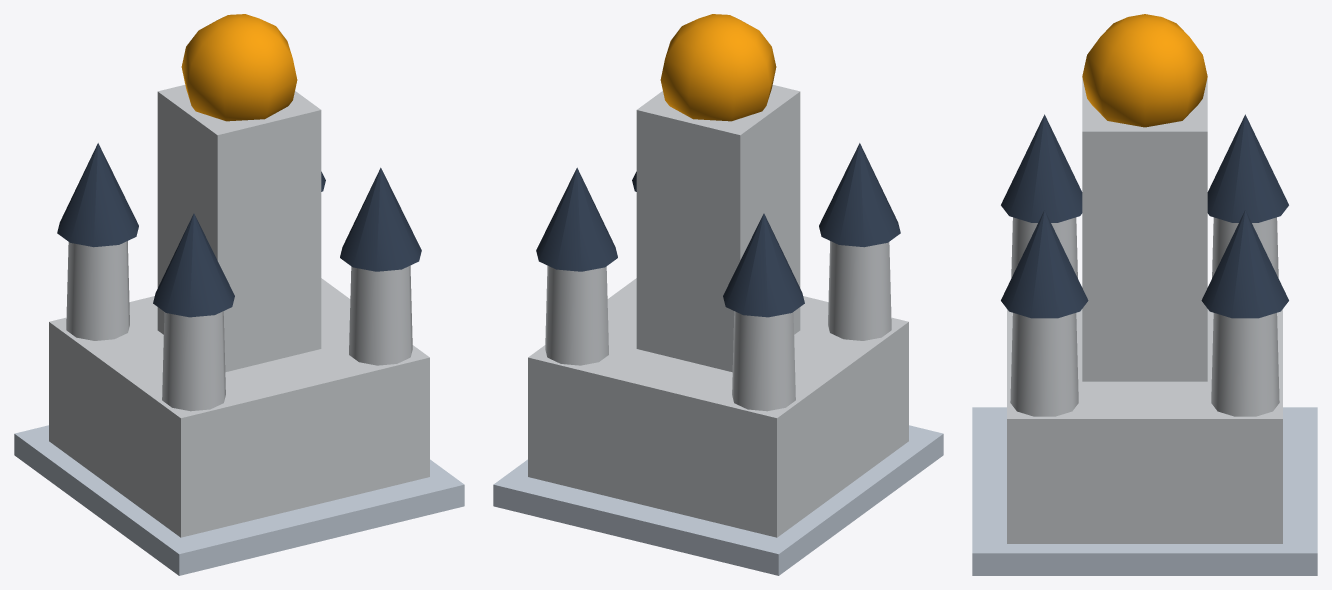
The model's file is bld_c3_cell_8.glb.
The picture shows the model from 3 angles, left to right: view 1: azimuth 30°, elevation 25°; view 2: azimuth 150°, elevation 25°; view 3: azimuth 270°, elevation 25°; orthographic projection. The views are drawn at different scales.
Visible parts, largest first — view 1: Bld_C3_Cell_8_BespokeLandmark; view 2: Bld_C3_Cell_8_BespokeLandmark; view 3: Bld_C3_Cell_8_BespokeLandmark.
Part boxes in pixels (x1,y1,x2,y2): Bld_C3_Cell_8_BespokeLandmark: (14,14,464,575); Bld_C3_Cell_8_BespokeLandmark: (493,14,943,575); Bld_C3_Cell_8_BespokeLandmark: (972,14,1317,575).
Size of the model in its own units: 0.55 by 0.85 by 0.55.
